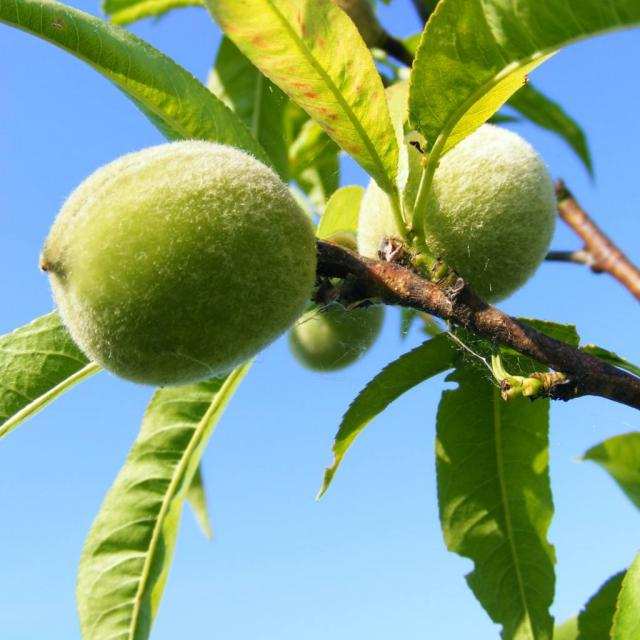peach: (31, 0, 577, 412)
